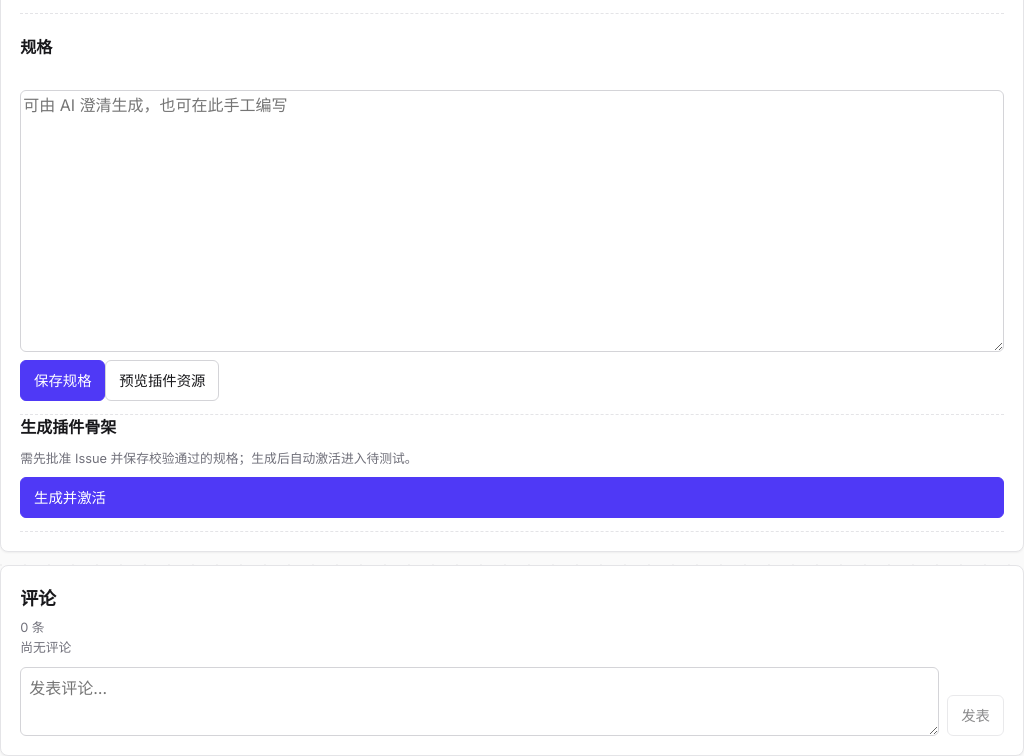
IssueDetail 评论（FR-ISSUE-01） › 发表评论成功后刷新评论区
(page scrolled)
In the text box with placeholder "发表评论…": x=480, y=702 [20,667,939,736], type "收到"
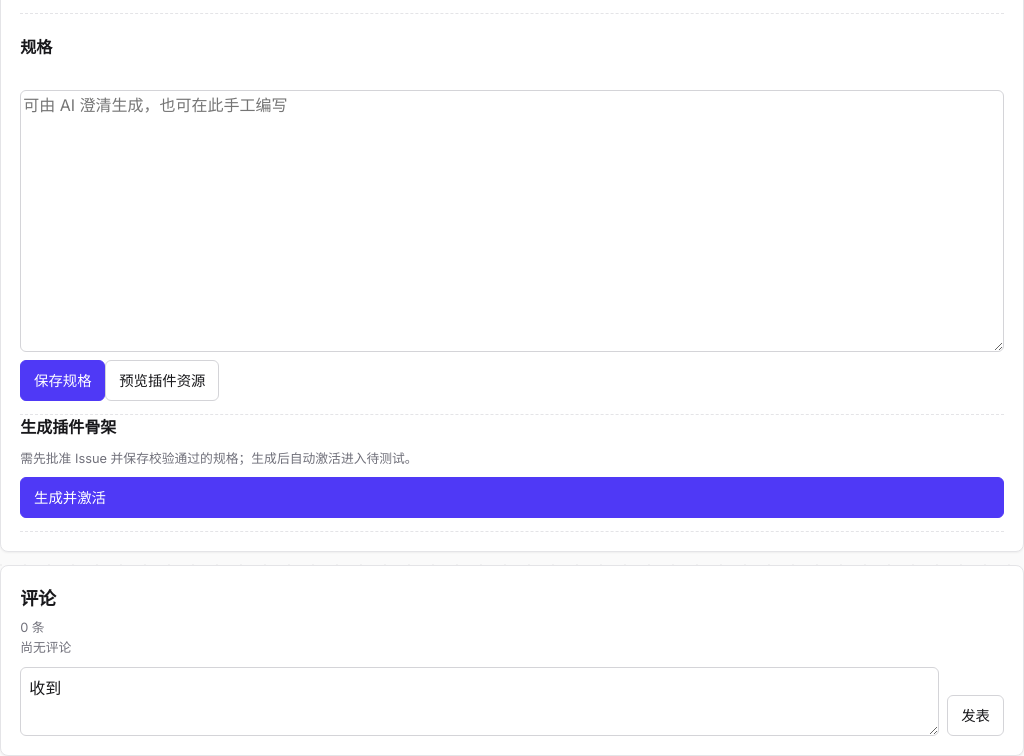
Click the button "发表": x=976, y=716 [947,695,1004,736]
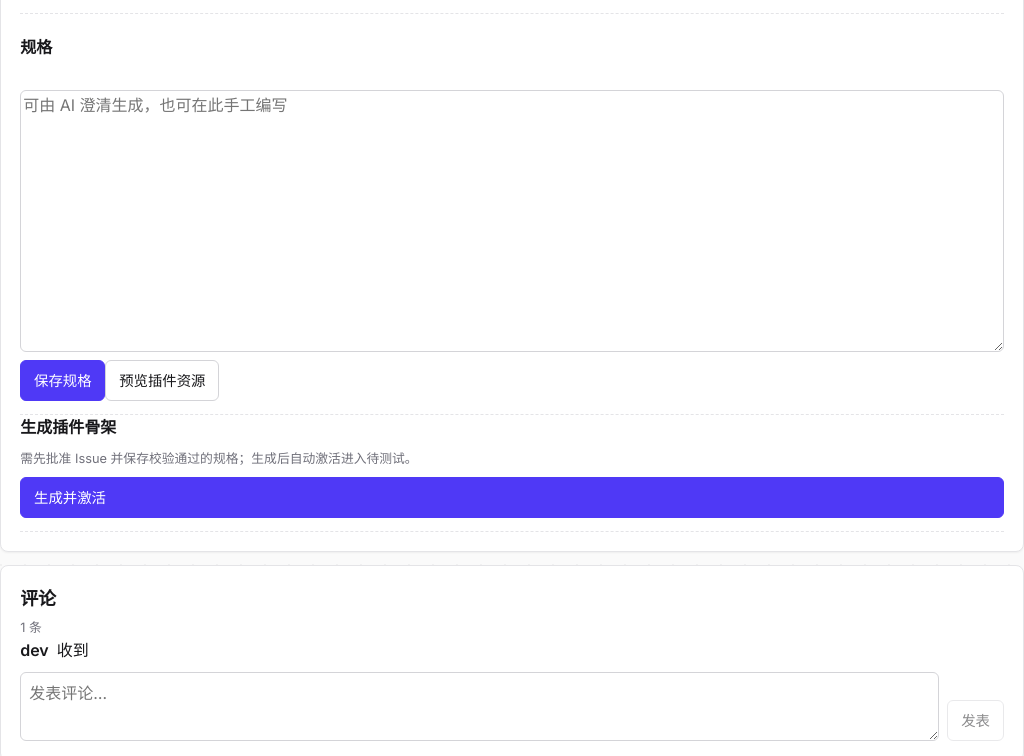
Expected: the text "收到" is shown, [57,640,89,660]
